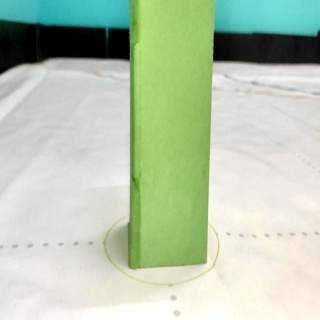greenbox: (126, 0, 214, 269)
